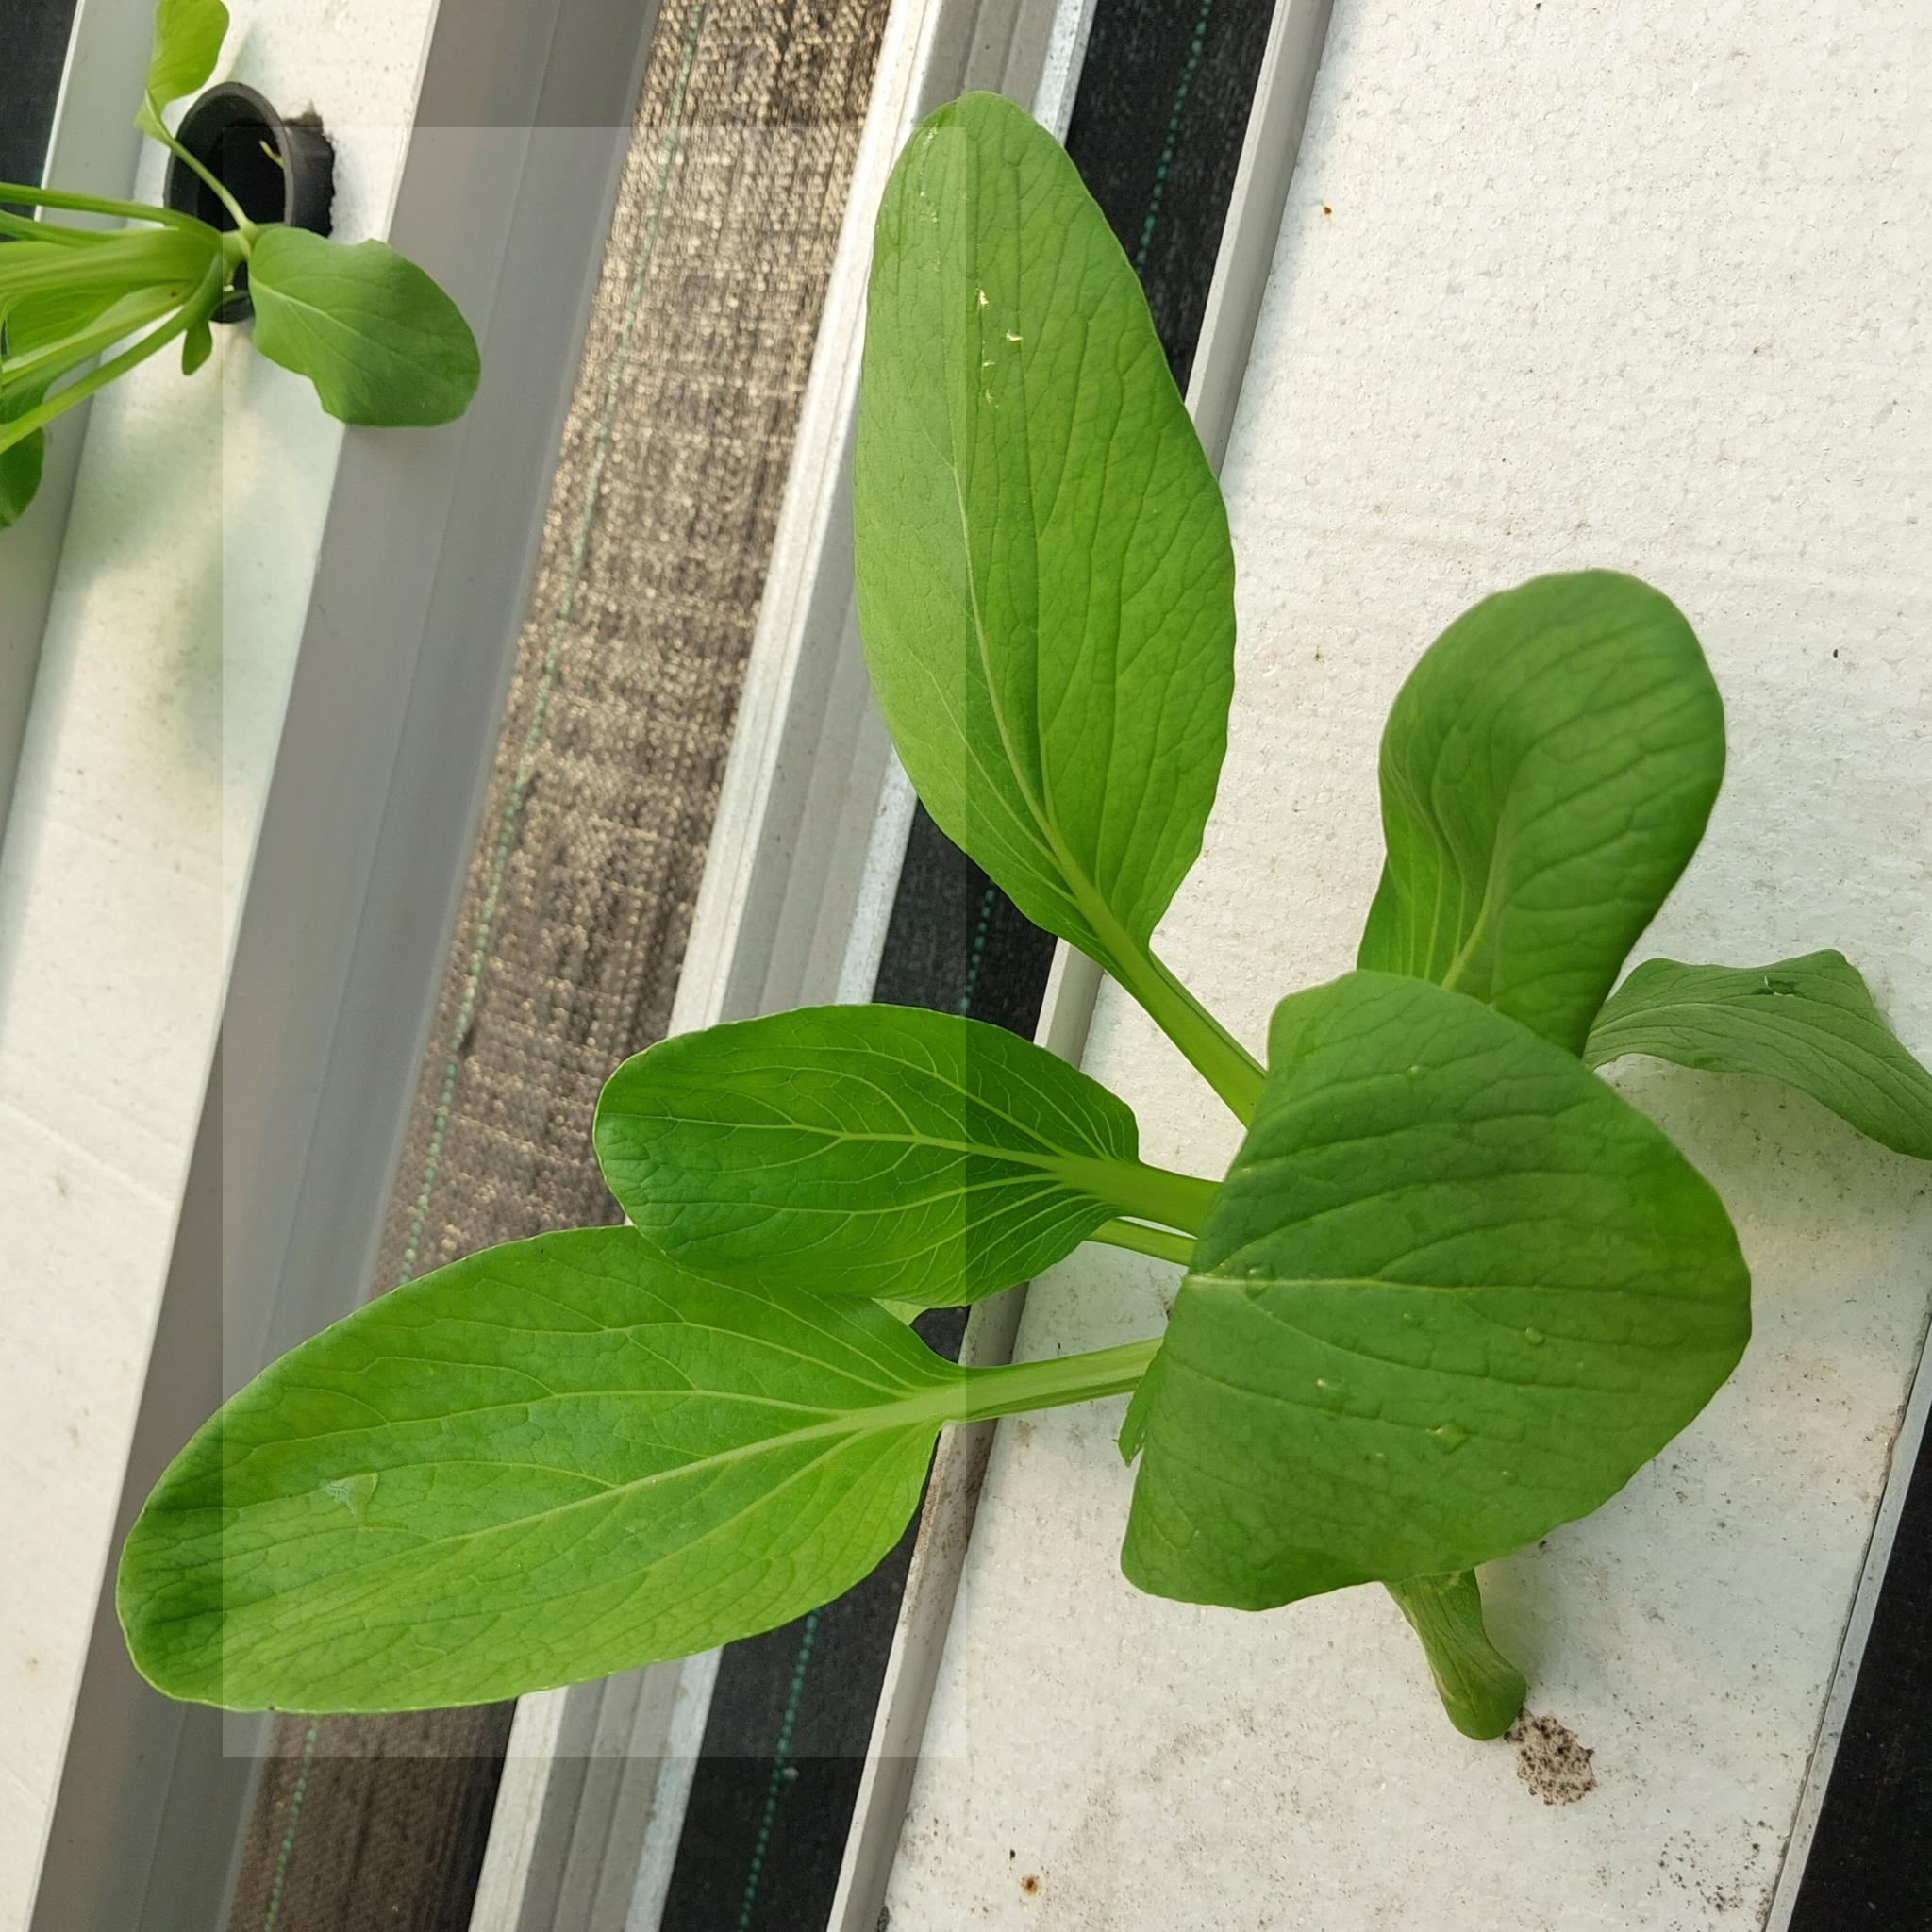Healthy-Pechay: (120, 1210, 1095, 1720), (1143, 994, 1757, 1621), (867, 85, 1224, 1069), (1348, 573, 1736, 1054), (594, 1007, 1138, 1307), (1580, 955, 1932, 1159), (1228, 1047, 1606, 1191), (244, 232, 483, 423), (223, 1348, 628, 1458), (1177, 1265, 1675, 1318), (0, 179, 219, 242), (150, 108, 255, 232), (683, 1118, 987, 1159)
